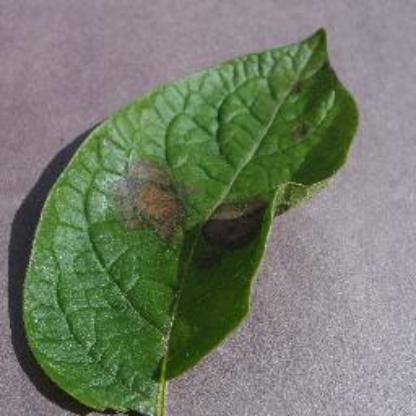Late-Blight: (20, 28, 362, 414)
